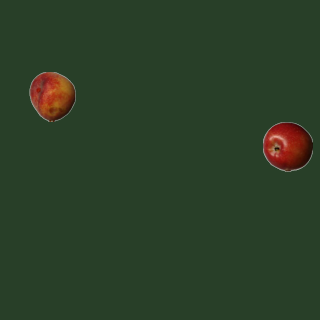Apple Braeburn: (262, 121, 312, 171)
Peach: (27, 71, 77, 121)
